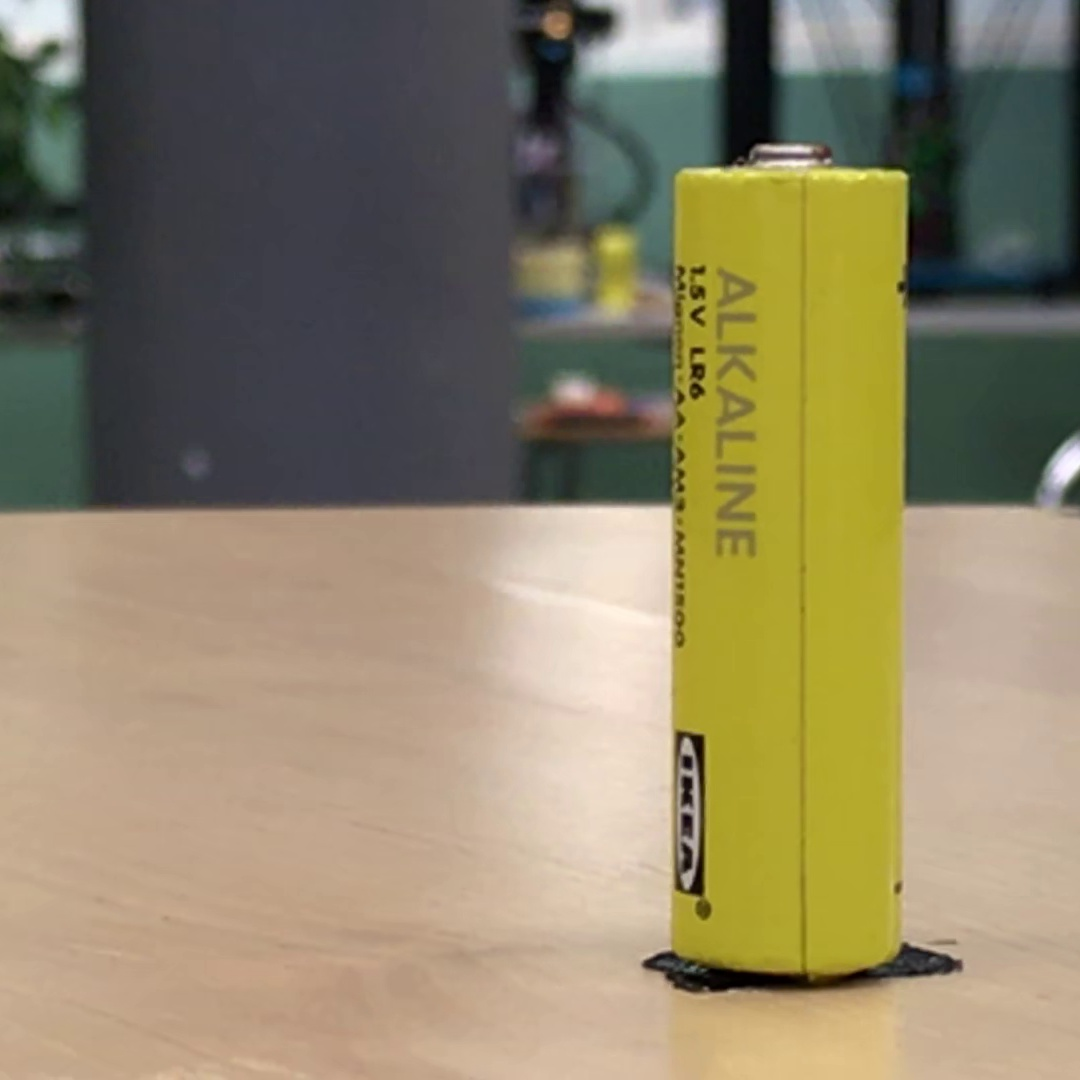keyword: (709, 261, 764, 382)
